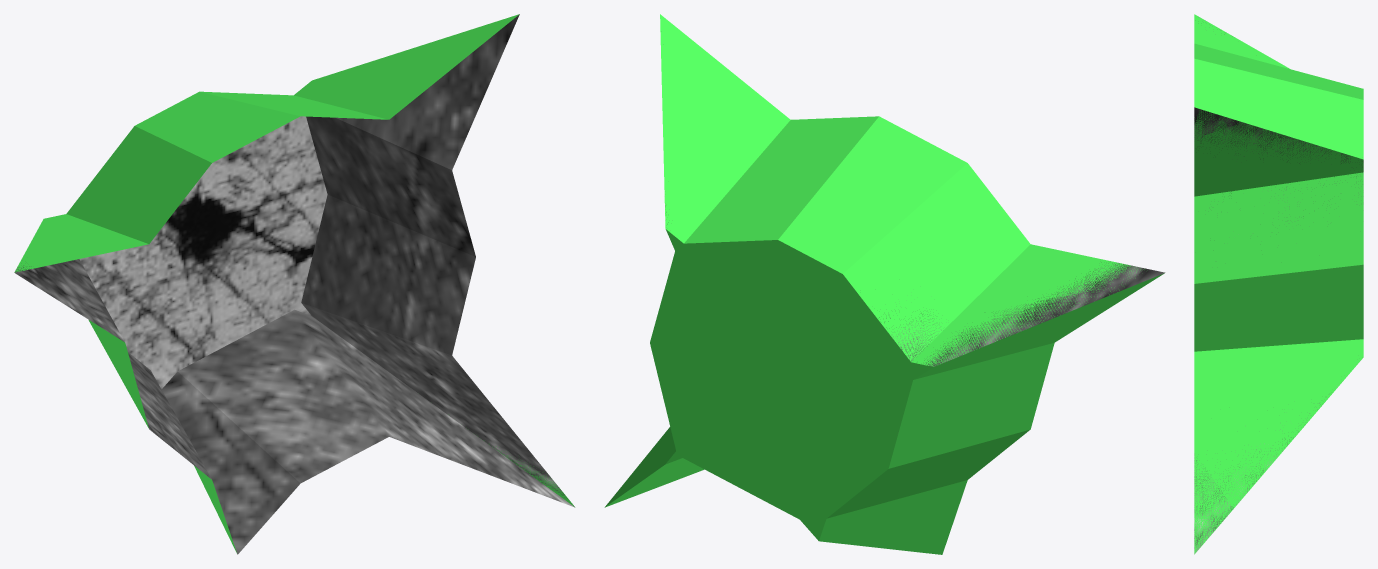
Rendered from bullet_hole_lowres.FBX.
3 renders of one model, left to right at view 1: azimuth 30°, elevation 25°; view 2: azimuth 150°, elevation 25°; view 3: azimuth 270°, elevation 25°, orthographic. The views are drawn at different scales.
Visible parts, largest first — view 1: Circle001; view 2: Circle001; view 3: Circle001.
Boxes of the visible parts, bbox=[...] form: Circle001: bbox=[14, 14, 575, 554]; Circle001: bbox=[604, 14, 1165, 554]; Circle001: bbox=[1194, 14, 1363, 554].
Size of the model in its own units: 160 by 138 by 50.
3 materials, 2 textured.
